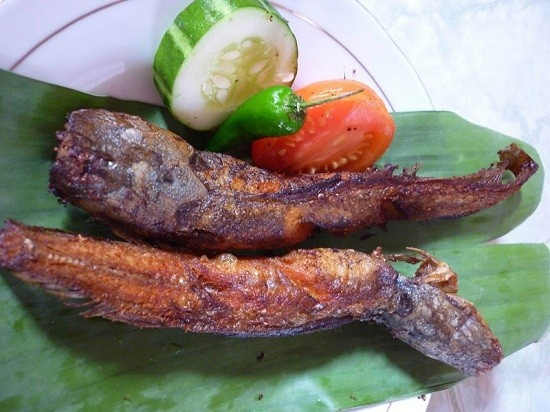pecel_lele: (2, 218, 503, 381), (47, 107, 547, 242)
